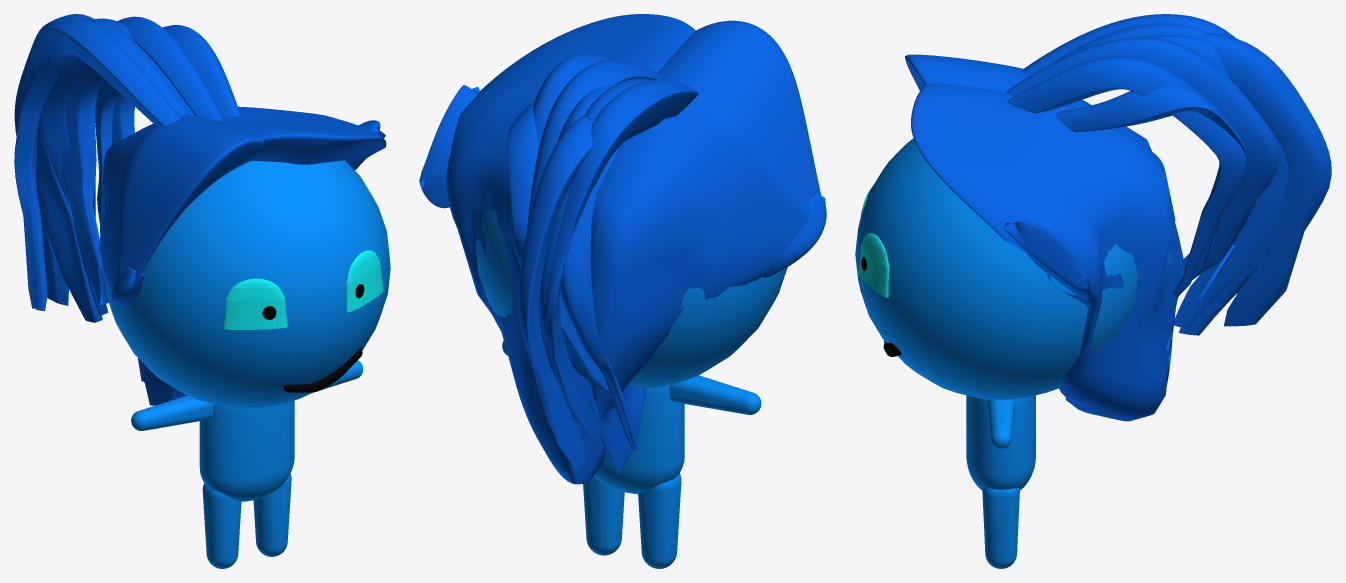
The model's file is watergirl.fbx.
3 views of the same model, side by side, from view 1: azimuth 30°, elevation 25°; view 2: azimuth 150°, elevation 25°; view 3: azimuth 270°, elevation 25° (orthographic). The views are drawn at different scales.
Parts seen in each view (by area): view 1: Hair, Head, Body, Legs, Eye, Arms, Mouth; view 2: Hair, Head, Legs, Body, Arms; view 3: Hair, Head, Body, Legs, Eye, Arms.
Part boxes in pixels (x1,y1,x2,y2): Hair: (14, 14, 386, 405); Head: (105, 160, 390, 408); Body: (199, 400, 294, 501); Legs: (202, 473, 291, 568); Eye: (223, 250, 383, 329); Arms: (131, 360, 362, 430); Mouth: (283, 347, 362, 392); Hair: (419, 14, 826, 484); Head: (475, 209, 787, 389); Legs: (583, 473, 681, 568); Body: (594, 385, 684, 493); Arms: (502, 340, 761, 414); Hair: (905, 14, 1331, 421); Head: (855, 138, 1137, 399); Body: (966, 395, 1035, 490); Legs: (982, 488, 1019, 568); Eye: (858, 186, 889, 297); Arms: (987, 399, 1014, 448).
Size of the model in its own units: 1298 by 2063 by 1774.
